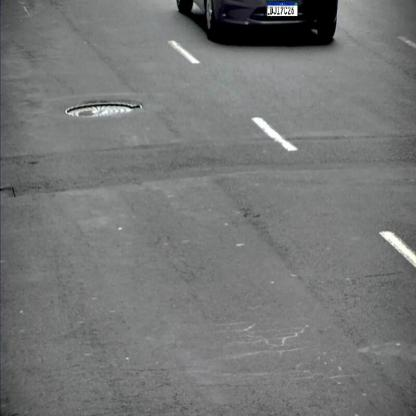PlacaM: (267, 1, 298, 17)
